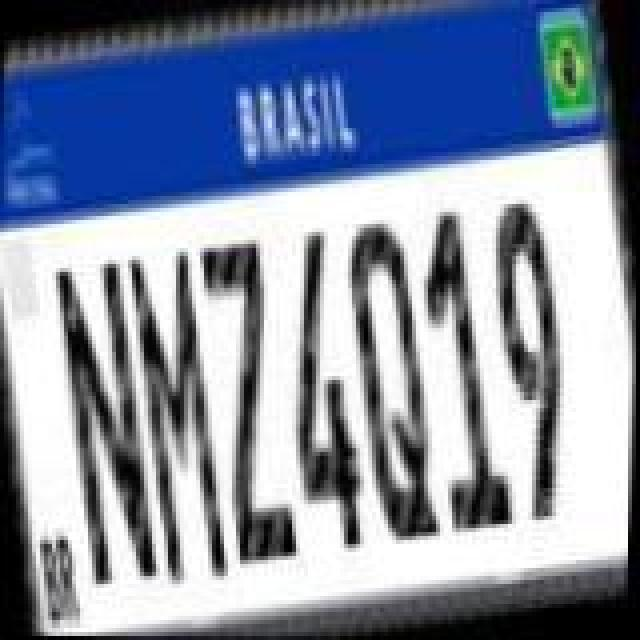1: (406, 200, 530, 536)
4: (262, 224, 382, 556)
9: (474, 190, 598, 530)
M: (118, 244, 238, 588)
N: (42, 254, 170, 594)
Q: (332, 216, 456, 552)
Z: (190, 234, 310, 566)
